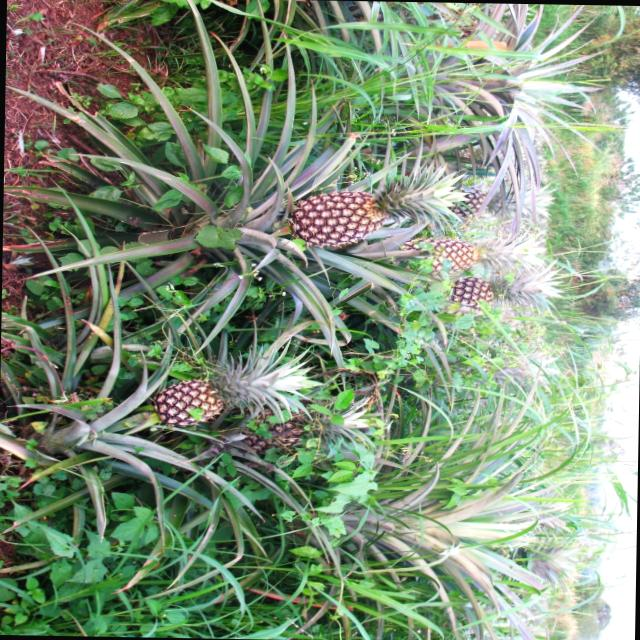pineapple: (288, 176, 421, 247), (148, 370, 263, 432), (411, 236, 496, 276), (445, 276, 502, 308)
